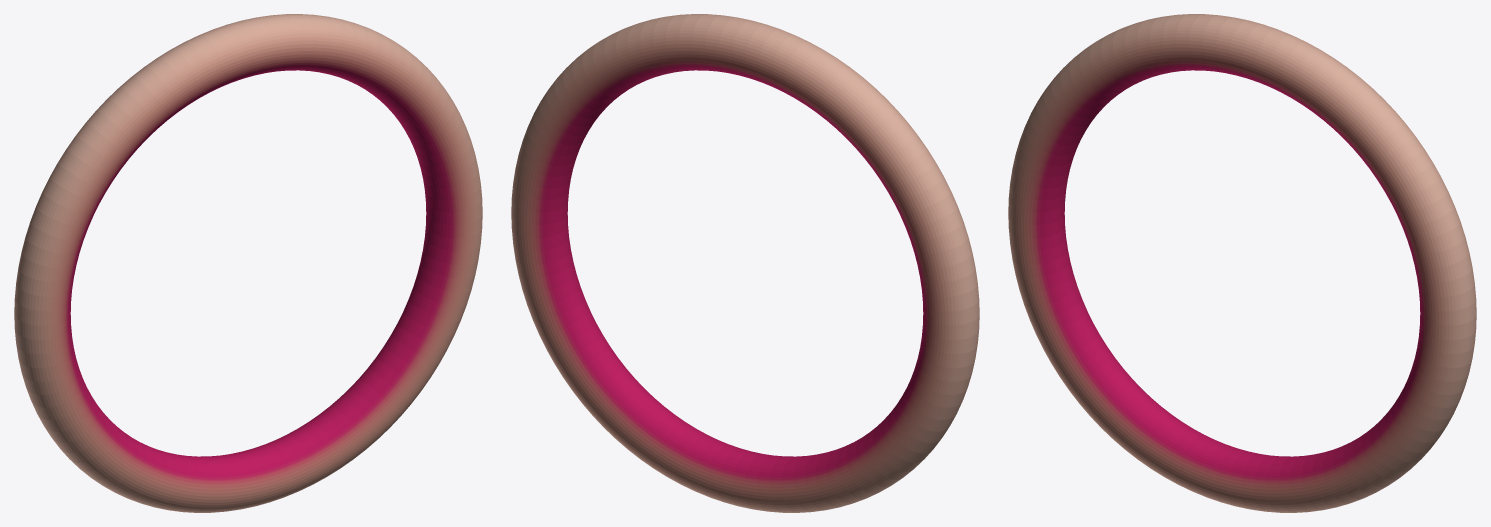
3 renders of one model, left to right at view 1: azimuth 30°, elevation 25°; view 2: azimuth 150°, elevation 25°; view 3: azimuth 330°, elevation 25°, orthographic.
Visible parts, largest first — view 1: world; view 2: world; view 3: world.
Boxes of the visible parts, x1,y1,x2,y2 form: world: (14,14,482,512); world: (511,14,979,512); world: (1008,14,1476,512).
Size of the model in its own units: 23.87 by 23.87 by 2.53.
